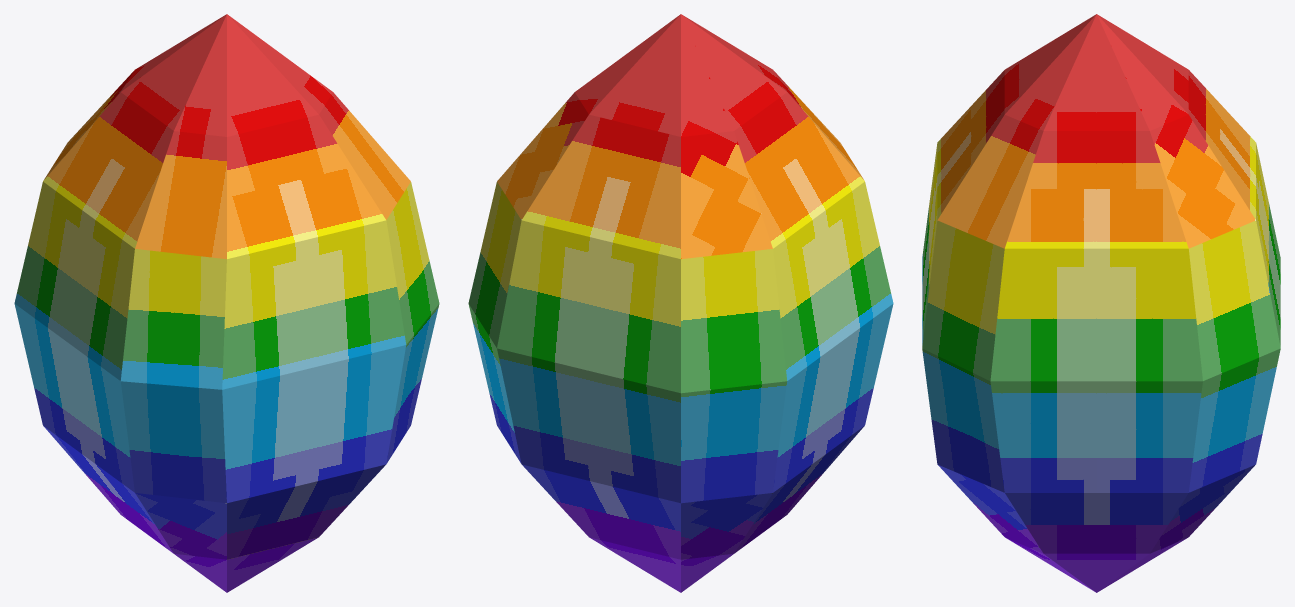
Rendered from No Ability Cooldowns PU.glb.
3 views of the same model, side by side, from view 1: azimuth 30°, elevation 25°; view 2: azimuth 150°, elevation 25°; view 3: azimuth 270°, elevation 25° (orthographic).
Parts seen in each view (by area): view 1: RainbowRock_Outside; view 2: RainbowRock_Outside; view 3: RainbowRock_Outside.
Part boxes in pixels (x1,y1,x2,y2): RainbowRock_Outside: (14, 14, 439, 592); RainbowRock_Outside: (468, 14, 893, 592); RainbowRock_Outside: (922, 14, 1280, 592).
Bounding box in the file's own units: 0.8689 × 1.51 × 0.8465.
Materials: 1 (1 with a texture image).
